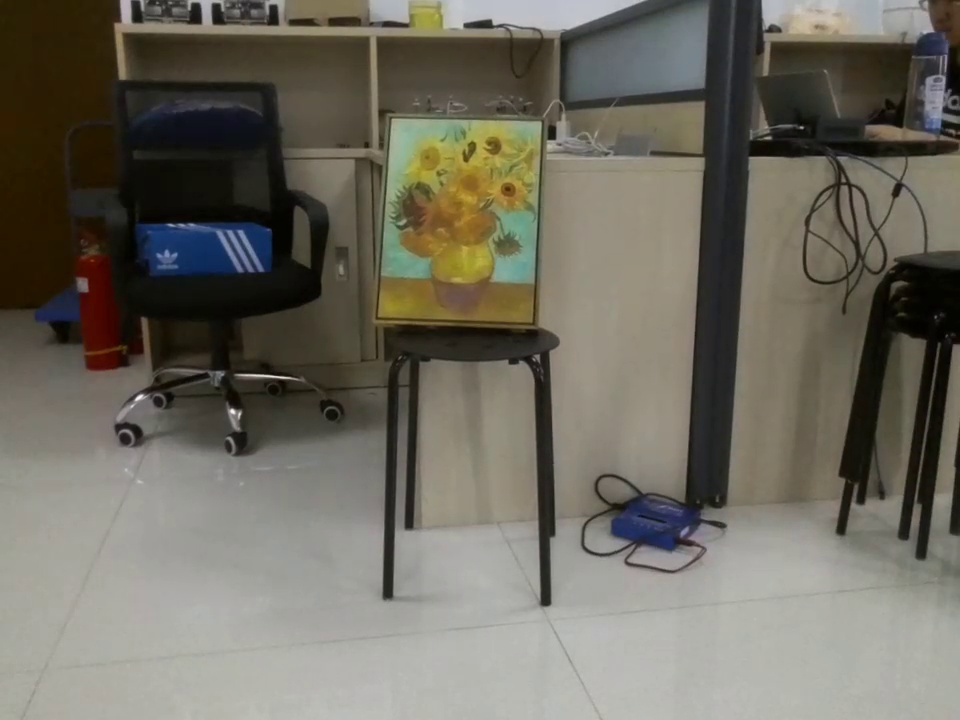painting: (373, 113, 550, 333)
